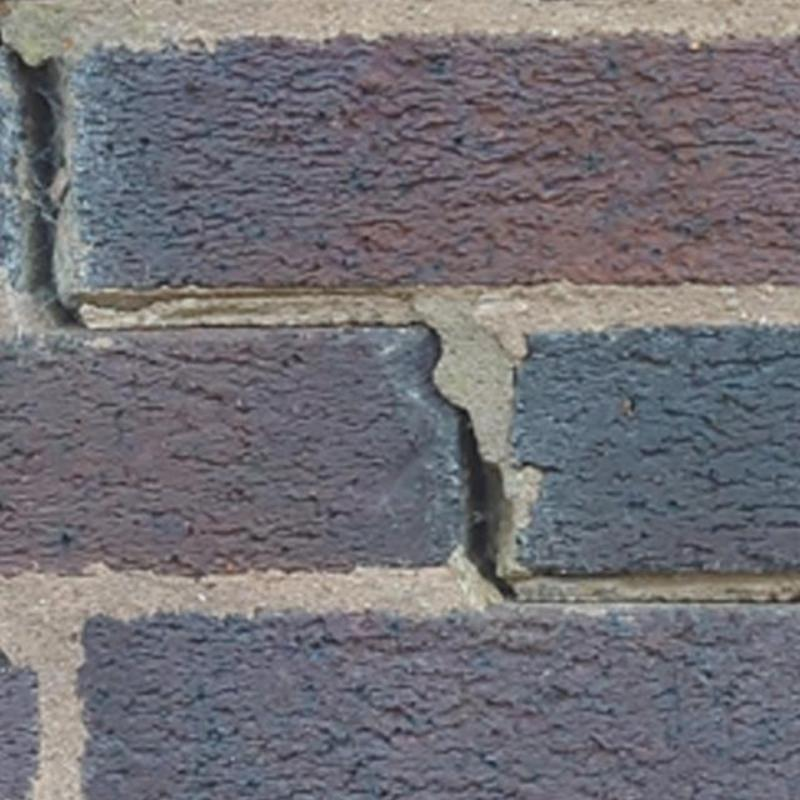pothole: (93, 317, 453, 409), (0, 36, 91, 332), (455, 406, 520, 601)
